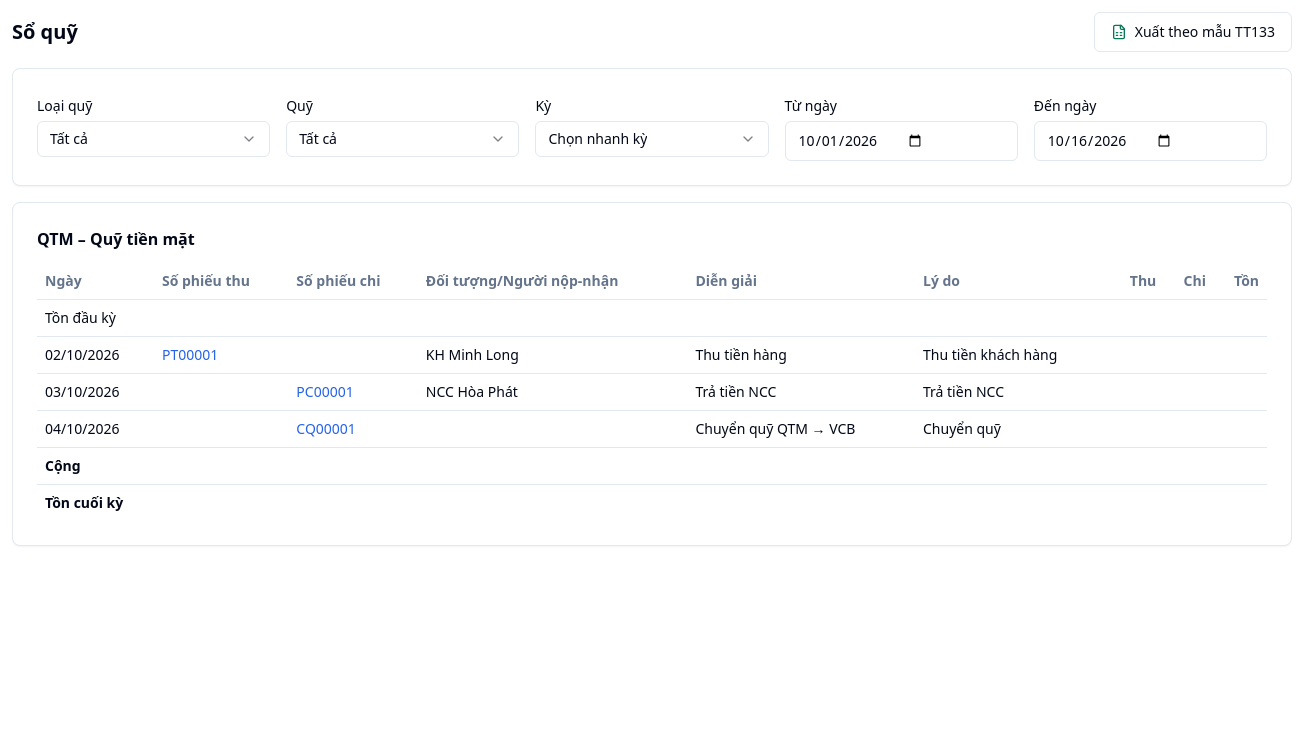
Scenario: CashBookPage › TT133 export › the preset Tháng trước sets the previous month
This screenshot has width=1304, height=732.
Click the dropdown labelled "kỳ": (652, 139) [535,121,769,157]
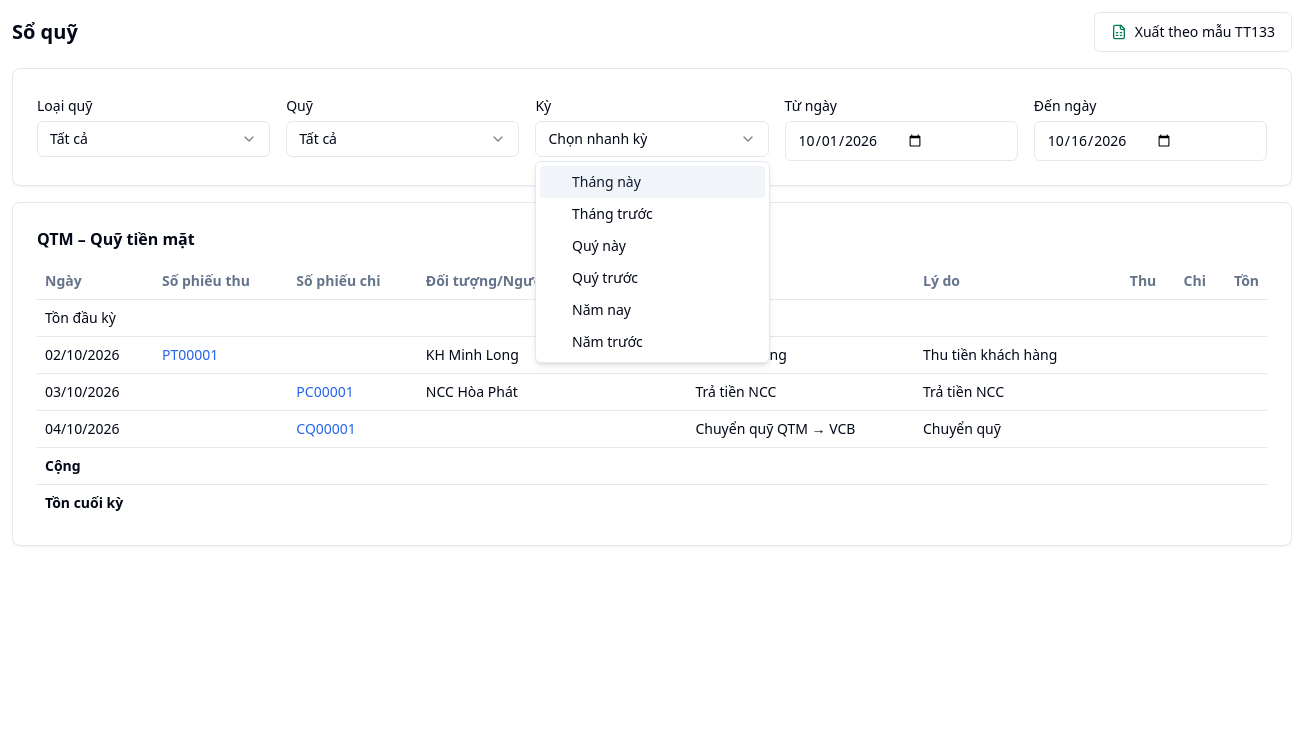
Click the option "Tháng trước": (612, 214) [572,204,653,223]
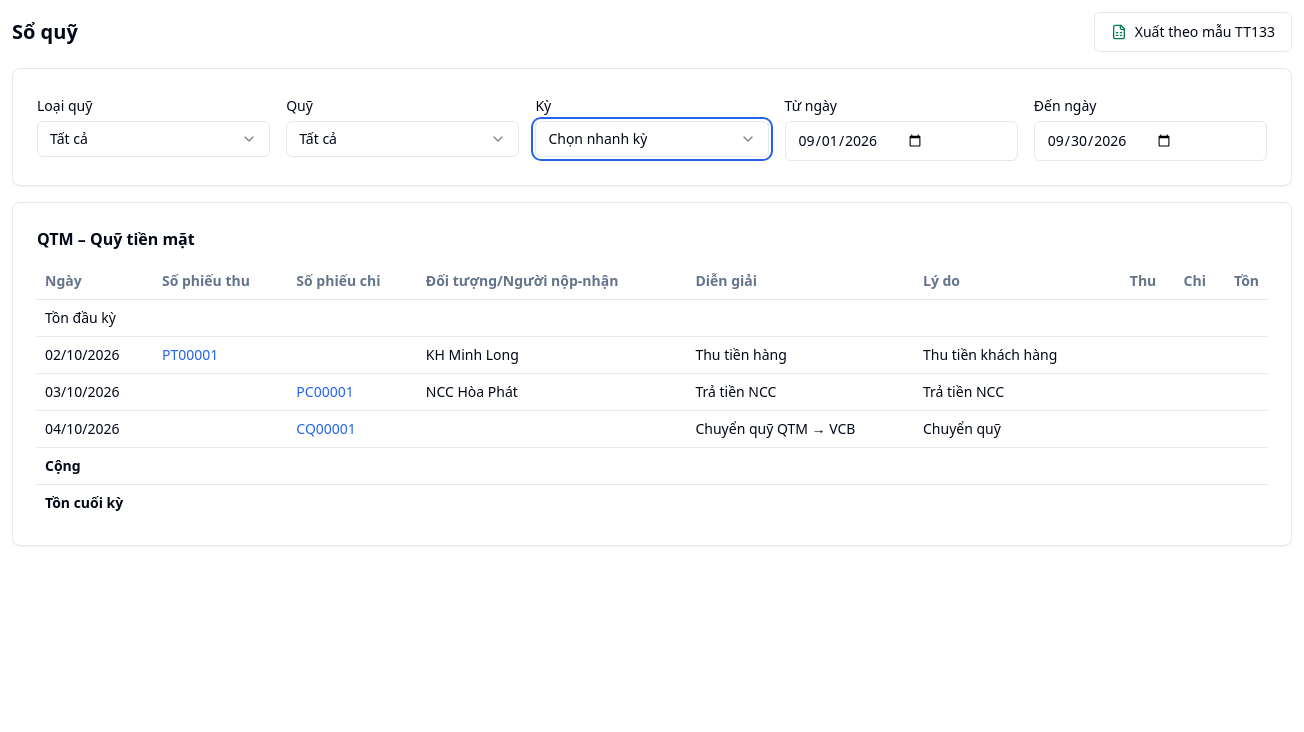
Check: the date field labelled "Từ ngày" holds "2026-09-01", box [785,121,1018,161]
